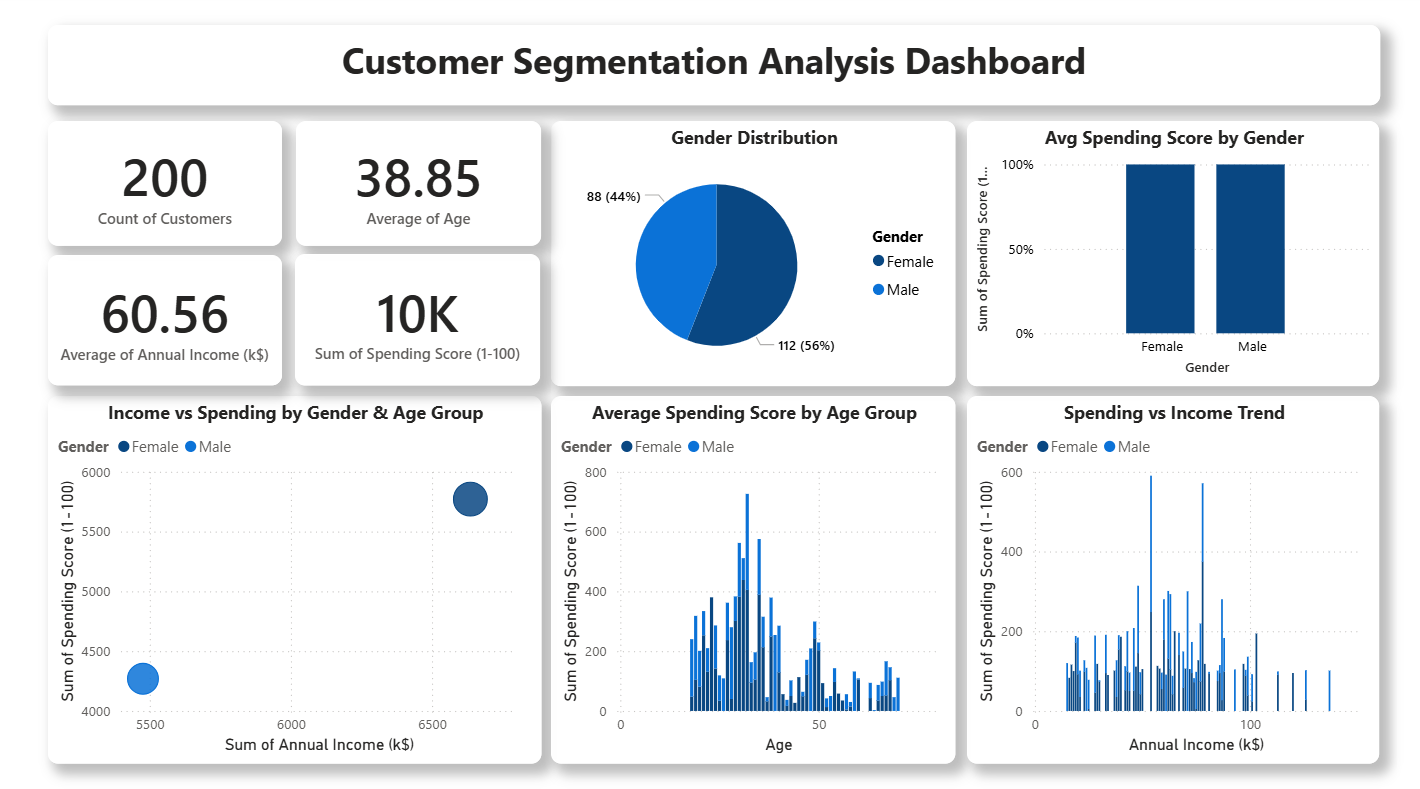

What the dashboard file says about the page in this screenshot:
{"tool":"powerbi","page":{"name":"Mall Customer Segmentation Dashboard","canvas":[1280,720],"ordinal":0},"visuals":[{"type":"textbox","box":[44,26.9,1196,71.6],"z":0},{"type":"card","fields":{"Values":["CountNonNull(Mall_Customers.CustomerID)"]},"box":[43.9,113.1,209.7,112.4],"z":1000},{"type":"pieChart","title":"Gender Distribution","fields":{"Category":["Mall_Customers.Gender"],"Y":["CountNonNull(Mall_Customers.CustomerID)"]},"box":[495.9,113.1,363.4,237.6],"z":2000},{"type":"hundredPercentStackedColumnChart","title":"Avg Spending Score by Gender","fields":{"Category":["Mall_Customers.Gender"],"Y":["Sum(Mall_Customers.Spending Score (1-100))"]},"box":[869.5,113.1,370.5,237.6],"z":3000},{"type":"scatterChart","title":"Income vs Spending by Gender & Age Group","fields":{"X":["Sum(Mall_Customers.Annual Income (k$))"],"Y":["Sum(Mall_Customers.Spending Score (1-100))"],"Series":["Mall_Customers.Gender"],"Size":["Sum(Mall_Customers.Age)"]},"box":[44,359.7,442.8,330.1],"z":4000},{"type":"columnChart","title":"Average Spending Score by Age Group","fields":{"Category":["Mall_Customers.Age"],"Y":["Sum(Mall_Customers.Spending Score (1-100))"],"Series":["Mall_Customers.Gender"]},"box":[495.9,359.7,363.4,330.1],"z":5000},{"type":"lineStackedColumnComboChart","title":"Spending vs Income Trend","fields":{"Category":["Mall_Customers.Annual Income (k$)"],"Y":["Sum(Mall_Customers.Spending Score (1-100))"],"Series":["Mall_Customers.Gender"]},"box":[869.5,359.7,370.5,330.1],"z":6000},{"type":"card","fields":{"Values":["Avg(Mall_Customers.Age)"]},"box":[266.8,113.1,219.9,112.4],"z":7000},{"type":"card","fields":{"Values":["Avg(Mall_Customers.Annual Income (k$))"]},"box":[43.9,233.7,209.7,117],"z":8000},{"type":"card","fields":{"Values":["Sum(Mall_Customers.Spending Score (1-100))"]},"box":[265.7,232.5,220,117.6],"z":9000}]}

Visuals, with their boxes in screenshot pixels (x1, y1, x2, y2), scaled from the page's 1280x720 canvas onto the 1420x789 screenshot:
textbox: <region>49, 29, 1376, 108</region>
card - CountNonNull(Mall_Customers.CustomerID): <region>49, 124, 281, 247</region>
"Gender Distribution" pieChart: <region>550, 124, 953, 384</region>
"Avg Spending Score by Gender" hundredPercentStackedColumnChart: <region>965, 124, 1376, 384</region>
"Income vs Spending by Gender & Age Group" scatterChart: <region>49, 394, 540, 756</region>
"Average Spending Score by Age Group" columnChart: <region>550, 394, 953, 756</region>
"Spending vs Income Trend" lineStackedColumnComboChart: <region>965, 394, 1376, 756</region>
card - Avg(Mall_Customers.Age): <region>296, 124, 540, 247</region>
card - Avg(Mall_Customers.Annual Income (k$)): <region>49, 256, 281, 384</region>
card - Sum(Mall_Customers.Spending Score (1-100)): <region>295, 255, 539, 384</region>
